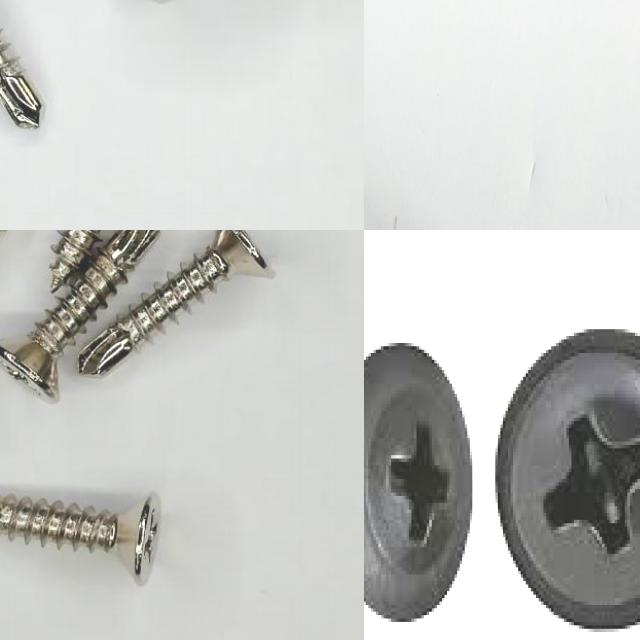Screw: (495, 329, 640, 632), (364, 343, 472, 619), (78, 230, 274, 374), (0, 230, 159, 399), (0, 494, 160, 586), (0, 41, 41, 128)
